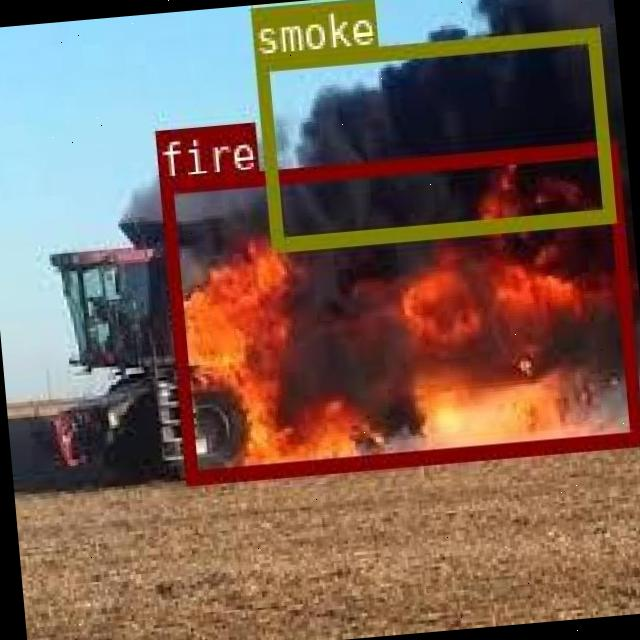fire: (156, 138, 640, 482)
smoke: (253, 26, 612, 249)
